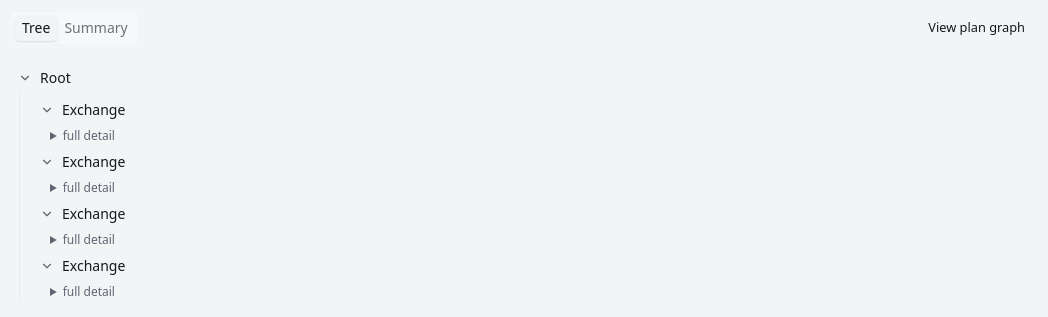
Test: PlanView › groups exchanges by partitioning kind with a count, and flags 4 or more with an advisory
Click the tab "Summary".
click(96, 28)  # box x1=57 y1=16 x2=135 y2=40
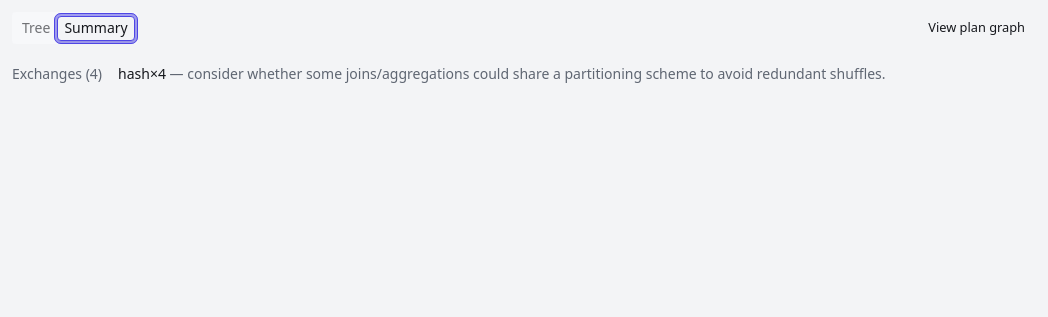
Expected: the text "Exchanges (4)" is shown, x1=12 y1=64 x2=102 y2=84
Expected: the text "hash×4" is shown, x1=118 y1=64 x2=166 y2=83
Expected: the text "consider whether some joins/aggregations" is shown, x1=170 y1=64 x2=886 y2=83
